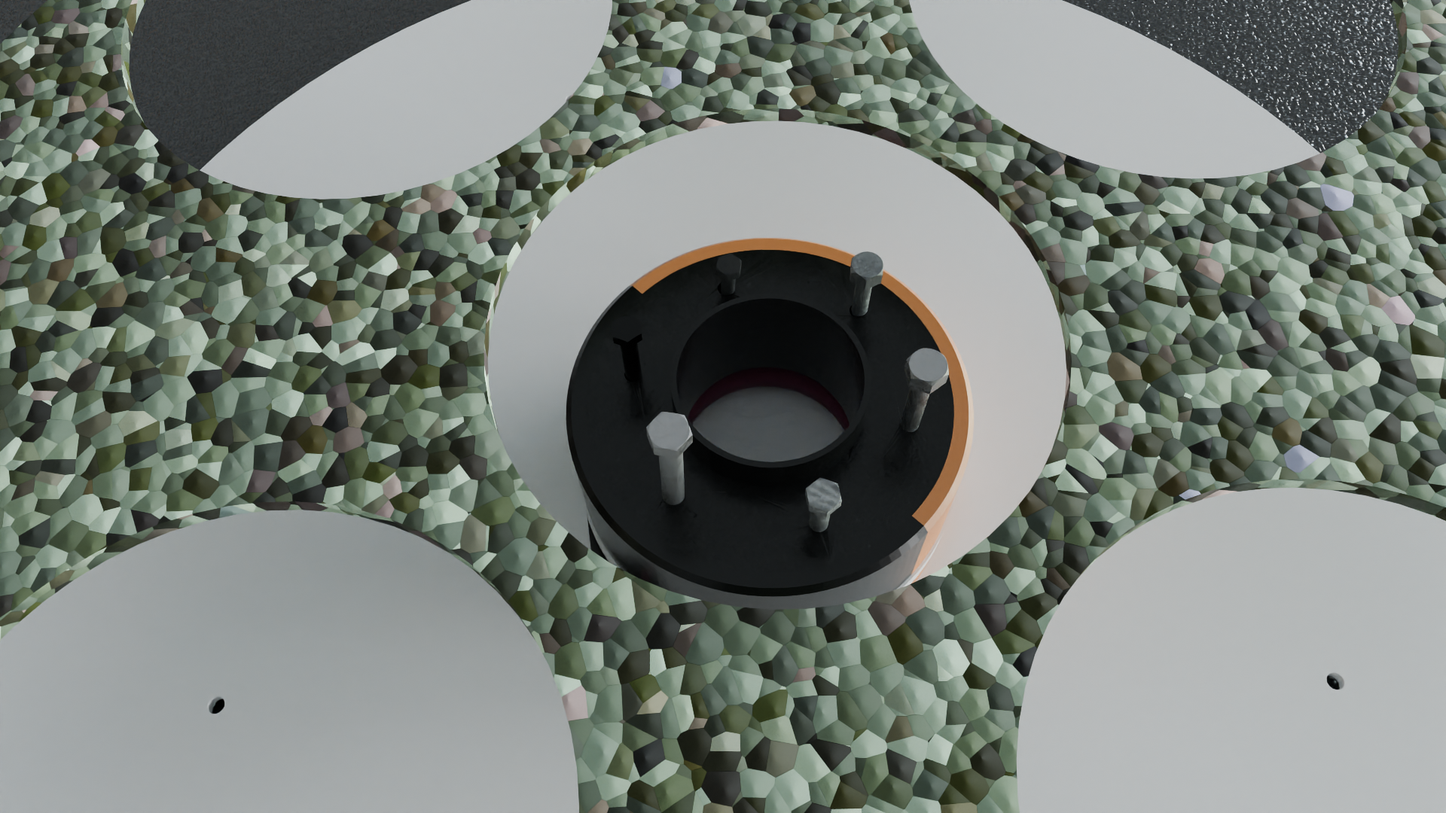bolt: (646, 412, 693, 451), (907, 348, 949, 386), (806, 478, 842, 512), (851, 251, 883, 282), (612, 315, 642, 343), (716, 254, 742, 276)
